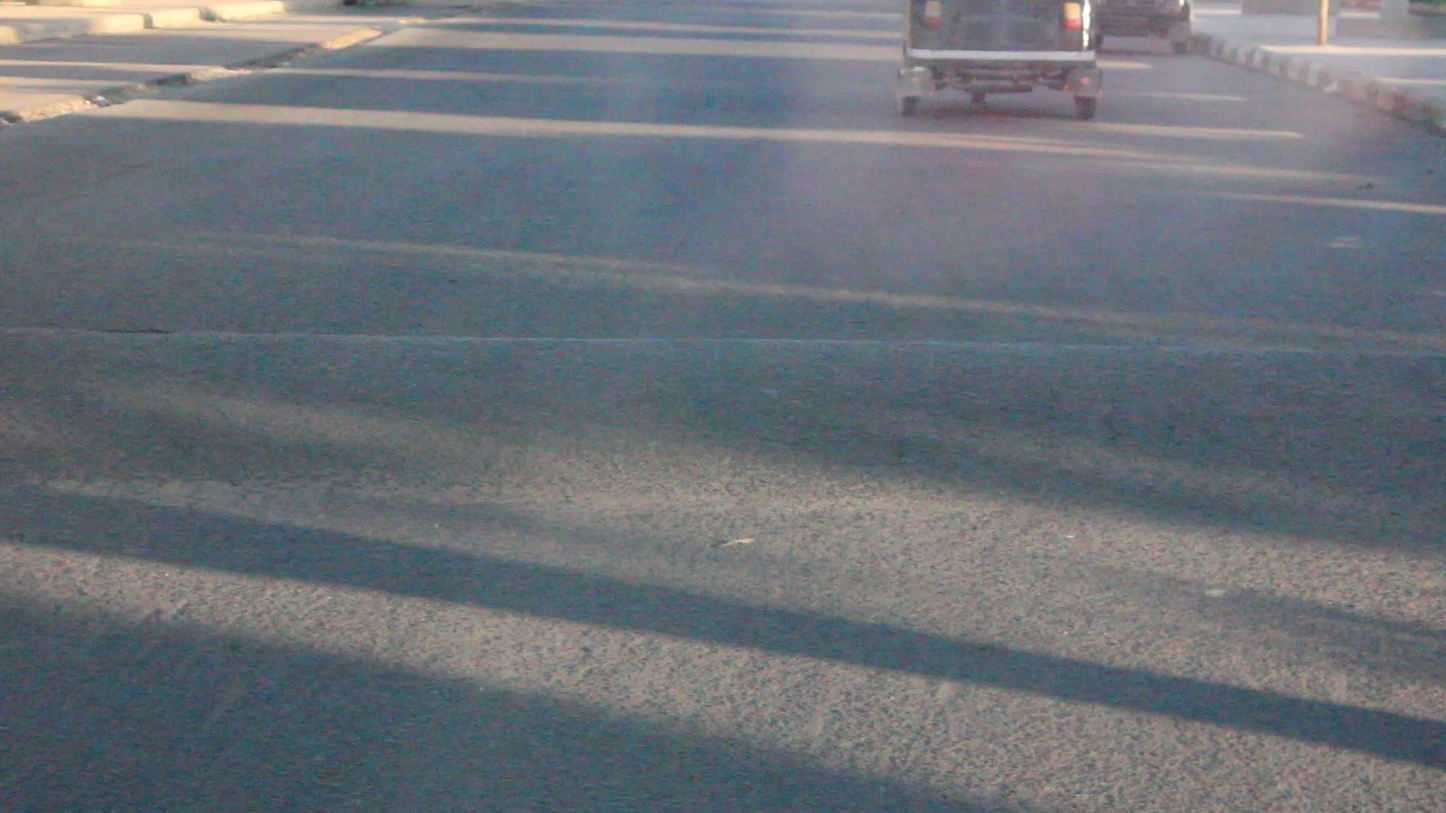Bump: (0, 314, 1446, 540)
